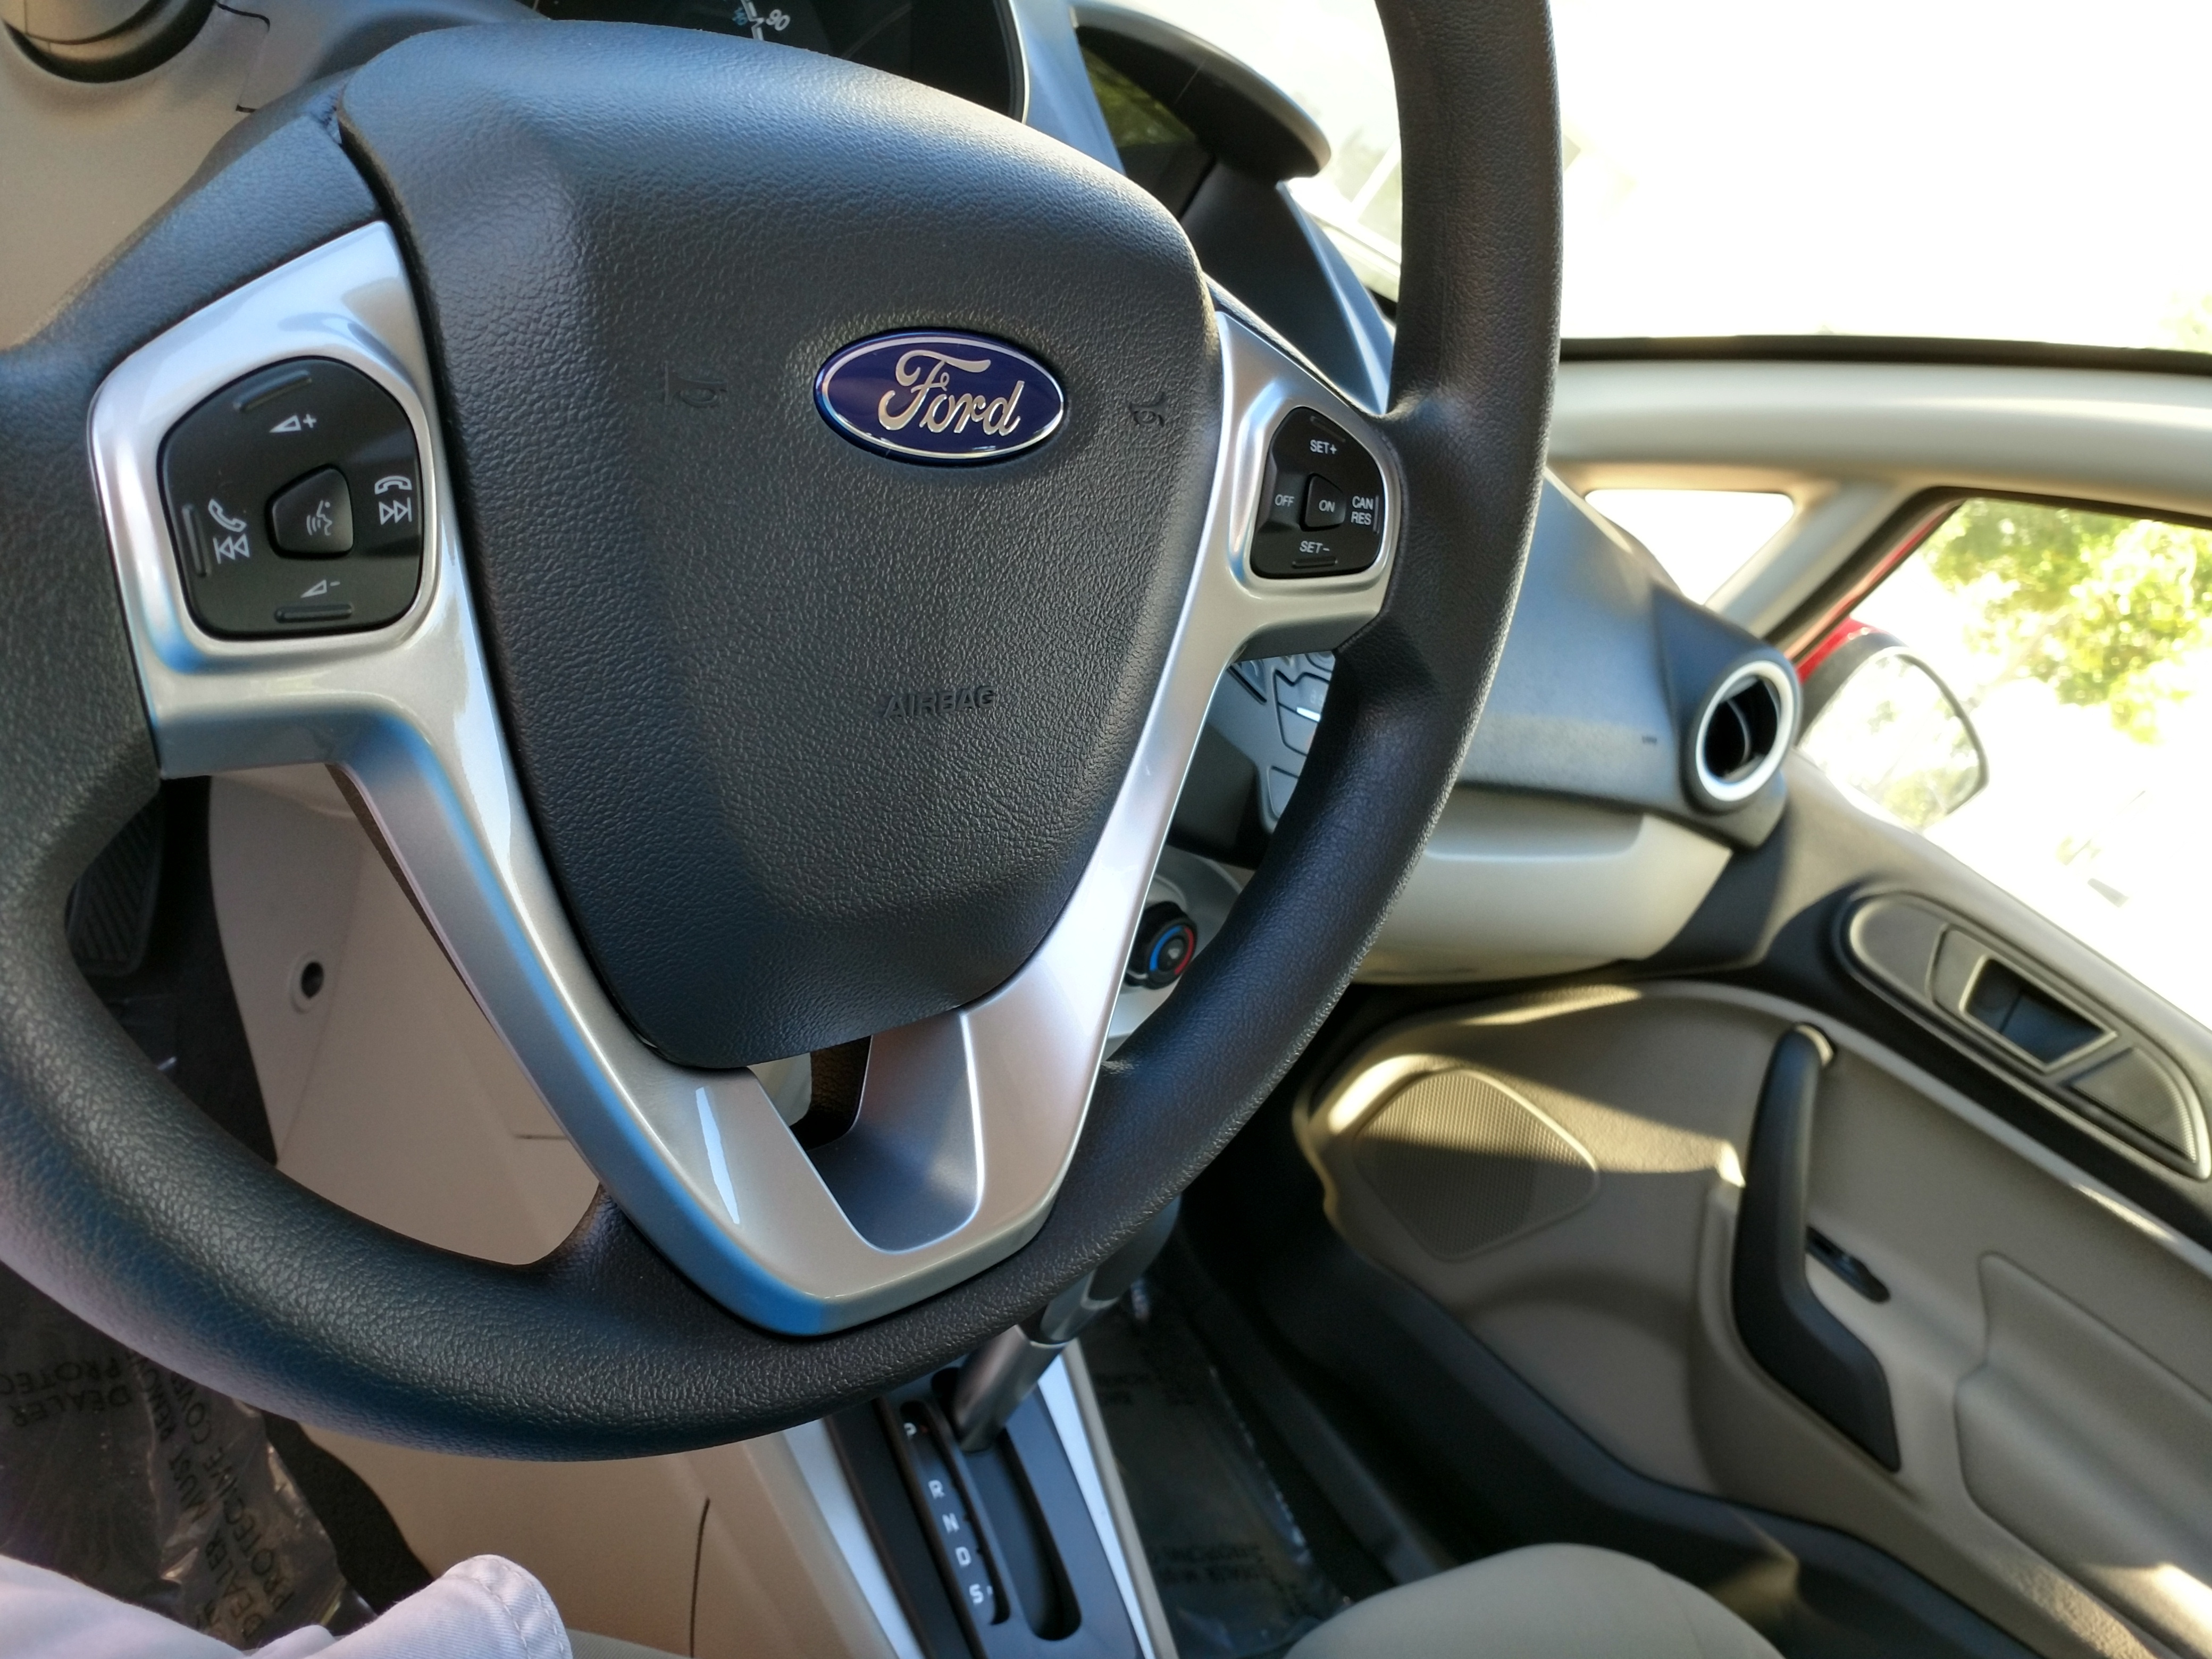Ford: (812, 314, 1087, 486)
